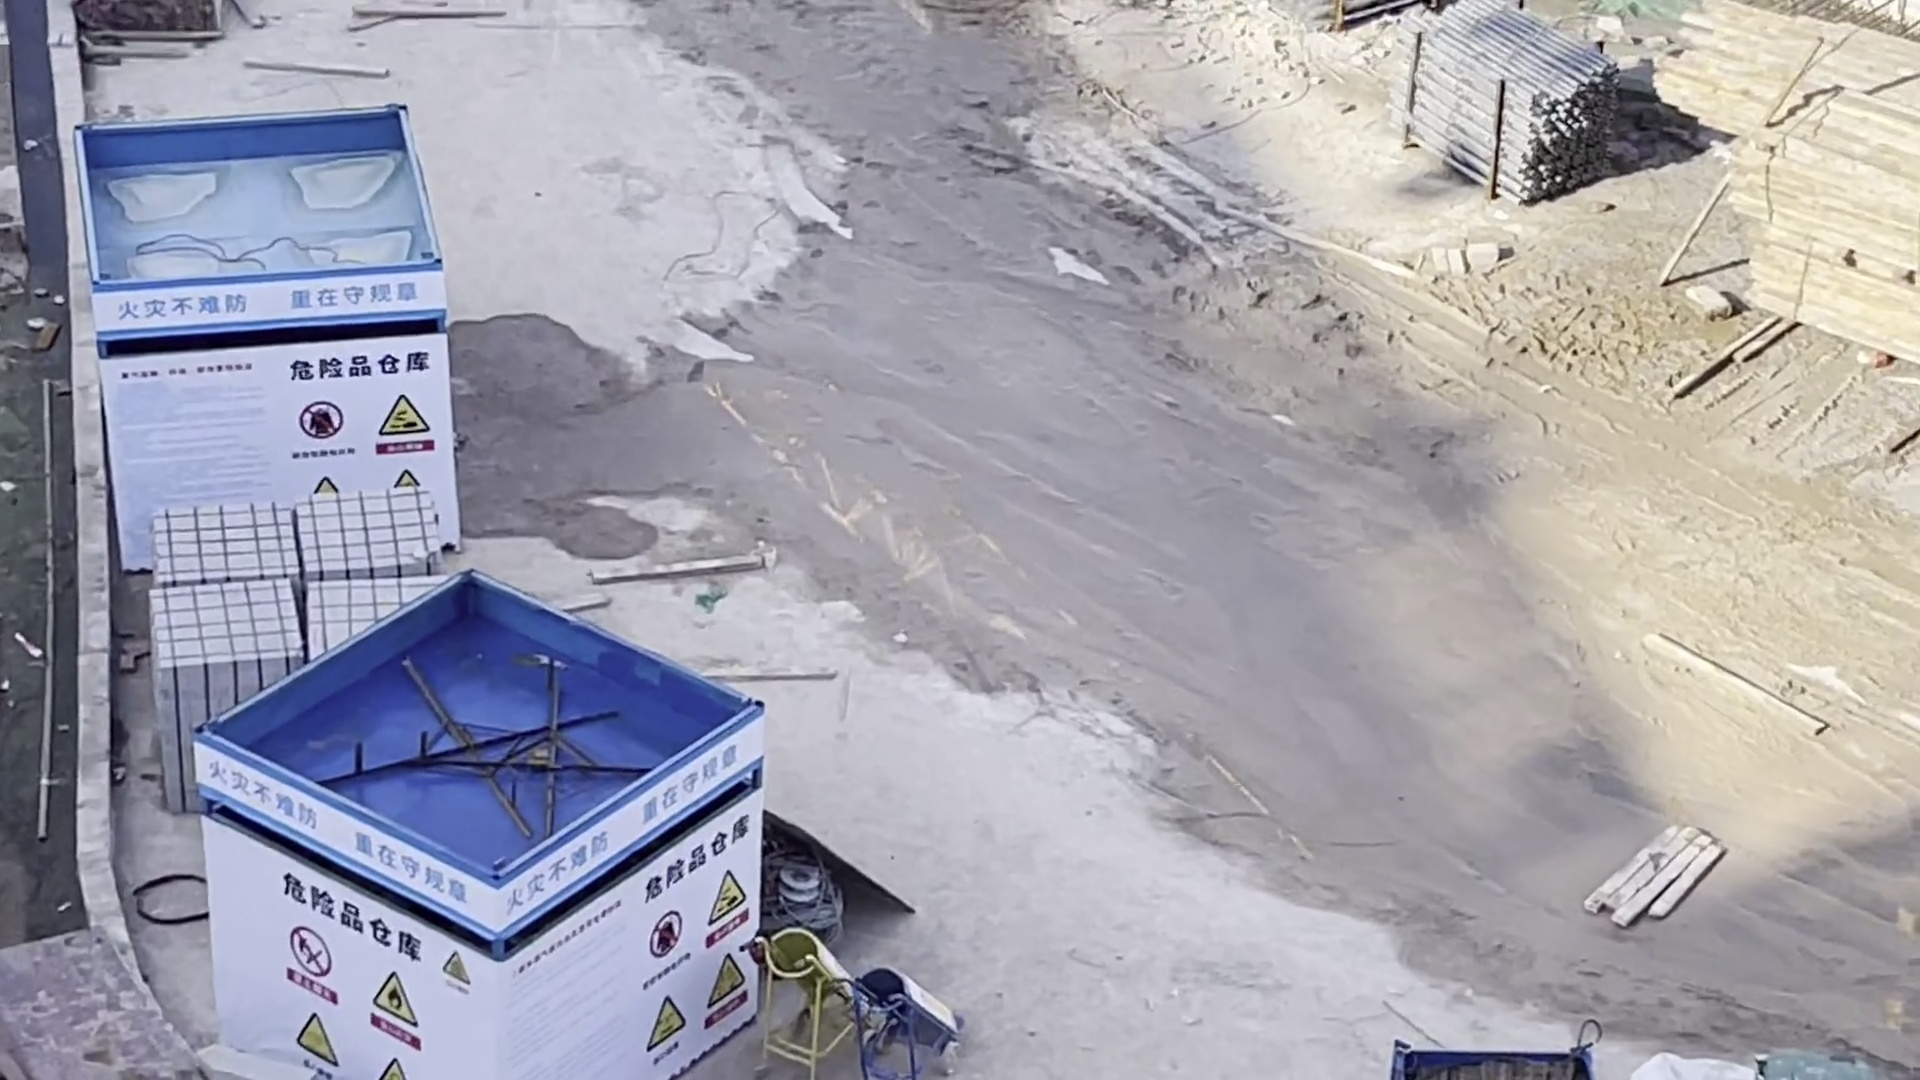brick: (158, 493, 411, 795)
scaffold: (1399, 1, 1604, 185)
slogan: (193, 735, 508, 913), (498, 736, 756, 916), (96, 270, 448, 335)
